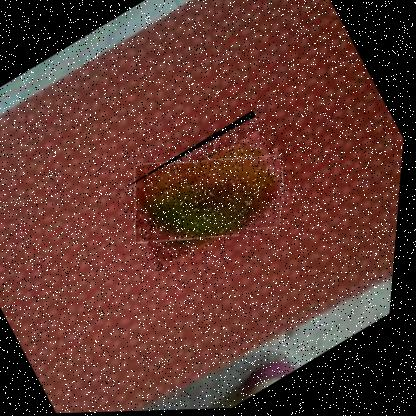mango: (112, 110, 310, 284)
